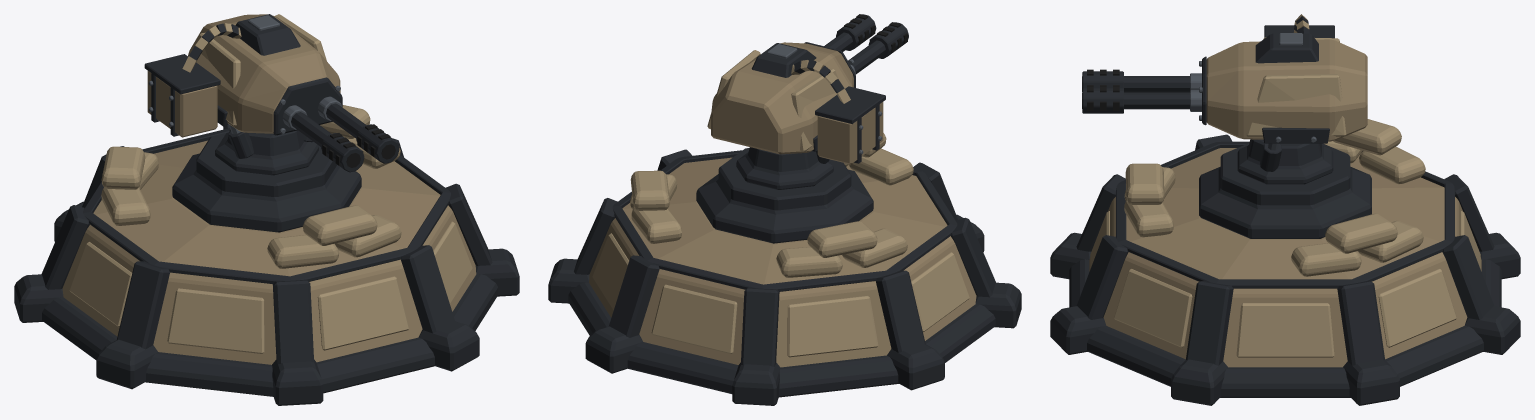
3 renders of one model, left to right at view 1: azimuth 30°, elevation 25°; view 2: azimuth 150°, elevation 25°; view 3: azimuth 270°, elevation 25°, orthographic. The views are drawn at different scales.
Parts seen in each view (by area): view 1: casco, gun_pitch, turret_yaw; view 2: casco, gun_pitch, turret_yaw; view 3: casco, gun_pitch, turret_yaw.
Boxes of the visible parts, x1,y1,x2,y2 form: casco: (14, 105, 519, 405); gun_pitch: (144, 14, 399, 172); turret_yaw: (215, 124, 318, 175); casco: (548, 133, 1021, 405); gun_pitch: (707, 14, 908, 164); turret_yaw: (736, 147, 833, 189); casco: (1050, 119, 1520, 405); gun_pitch: (1082, 14, 1367, 143); turret_yaw: (1237, 139, 1333, 184).
Size of the model in its own units: 1 by 0.6396 by 1.
